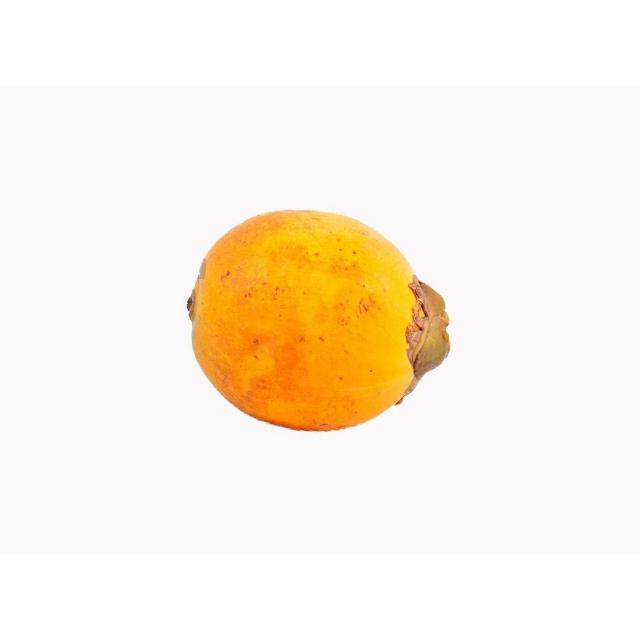good: (186, 210, 451, 435)
